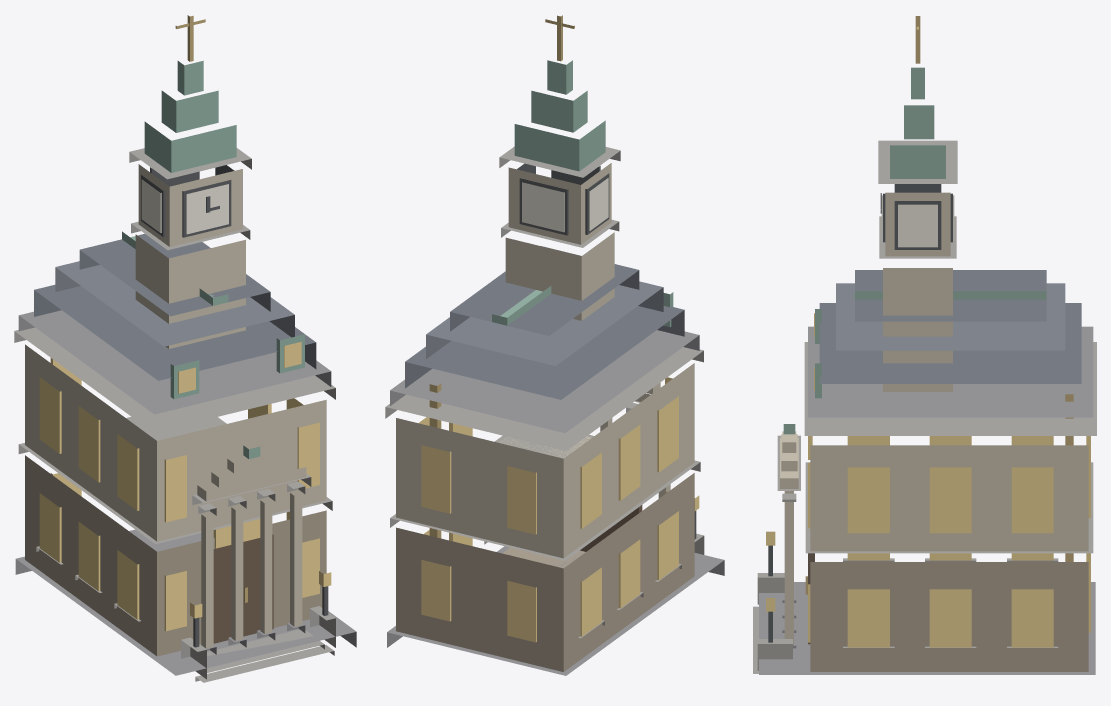
Rendered from city_center_2x3.glb.
The picture shows the model from 3 angles, left to right: view 1: azimuth 30°, elevation 25°; view 2: azimuth 150°, elevation 25°; view 3: azimuth 270°, elevation 25°; orthographic projection. The views are drawn at different scales.
Visible parts, largest first — view 1: Stucco_Cream, Yorkstone_Lower, Emissive_GasWindow, Stone_Curb, Stone_Plinth, Roof_SlateDark, Metal_VerdigrisCopper, Roof_SlateMid, Timber_DarkOak, Clock_Face, Metal_CastIron; view 2: Stucco_Cream, Yorkstone_Lower, Emissive_GasWindow, Roof_SlateDark, Stone_Plinth, Stone_Curb, Metal_VerdigrisCopper, Roof_SlateMid, Clock_Face, Metal_CastIron, Metal_BrassPipe; view 3: Stucco_Cream, Yorkstone_Lower, Emissive_GasWindow, Roof_SlateDark, Stone_Plinth, Stone_Curb, Roof_SlateMid, Metal_VerdigrisCopper, Clock_Face, Metal_CastIron, Metal_BrassPipe.
Part boxes in pixels (bbox=[...]): Stucco_Cream: bbox=[25, 164, 326, 648]; Yorkstone_Lower: bbox=[25, 455, 326, 656]; Emissive_GasWindow: bbox=[39, 341, 319, 631]; Stone_Curb: bbox=[14, 148, 335, 682]; Stone_Plinth: bbox=[15, 310, 356, 675]; Roof_SlateDark: bbox=[34, 233, 316, 380]; Metal_VerdigrisCopper: bbox=[122, 60, 304, 458]; Roof_SlateMid: bbox=[55, 261, 294, 346]; Timber_DarkOak: bbox=[213, 534, 273, 643]; Clock_Face: bbox=[141, 179, 228, 234]; Metal_CastIron: bbox=[141, 165, 328, 647]; Stucco_Cream: bbox=[396, 163, 694, 558]; Yorkstone_Lower: bbox=[396, 473, 694, 671]; Emissive_GasWindow: bbox=[418, 377, 678, 642]; Roof_SlateDark: bbox=[405, 246, 684, 399]; Stone_Plinth: bbox=[387, 330, 724, 675]; Stone_Curb: bbox=[385, 146, 704, 638]; Metal_VerdigrisCopper: bbox=[492, 60, 673, 326]; Roof_SlateMid: bbox=[426, 281, 663, 365]; Clock_Face: bbox=[522, 178, 608, 232]; Metal_CastIron: bbox=[517, 163, 696, 539]; Metal_BrassPipe: bbox=[429, 15, 574, 538]; Stucco_Cream: bbox=[780, 192, 1088, 644]; Yorkstone_Lower: bbox=[810, 562, 1088, 671]; Emissive_GasWindow: bbox=[808, 313, 1090, 647]; Roof_SlateDark: bbox=[819, 270, 1081, 383]; Stone_Plinth: bbox=[759, 326, 1095, 674]; Stone_Curb: bbox=[753, 140, 1096, 673]; Roof_SlateMid: bbox=[836, 283, 1065, 350]; Metal_VerdigrisCopper: bbox=[783, 67, 1046, 434]; Clock_Face: bbox=[881, 195, 954, 247]; Metal_CastIron: bbox=[768, 184, 952, 642]; Metal_BrassPipe: bbox=[805, 16, 1073, 594].
Bounding box in the file's own units: 1.9 × 5.95 × 2.94.
